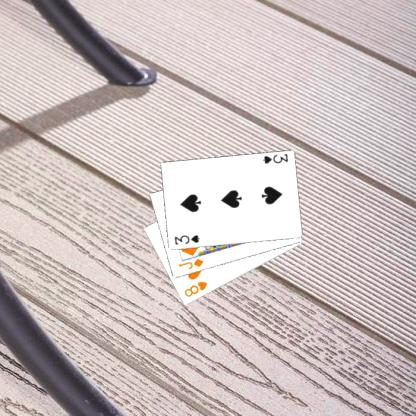3S: (172, 232, 200, 246), (260, 152, 289, 165)
8H: (181, 279, 209, 298)
JD: (176, 256, 204, 271)
